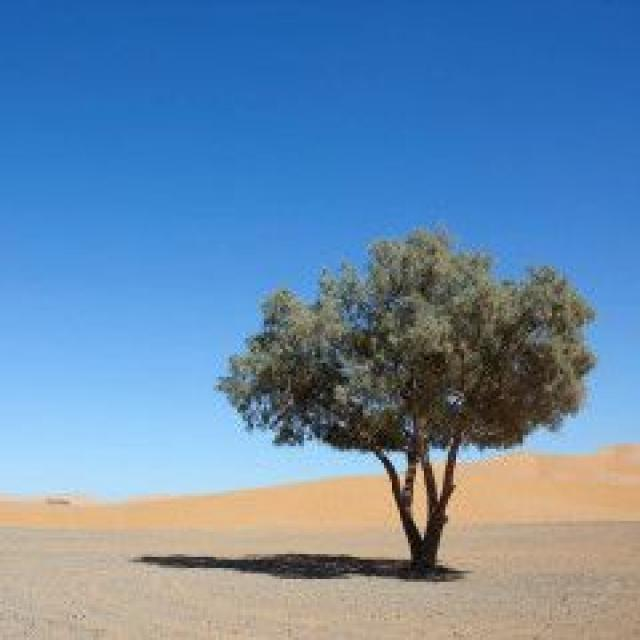Acacia: (220, 247, 590, 576)
